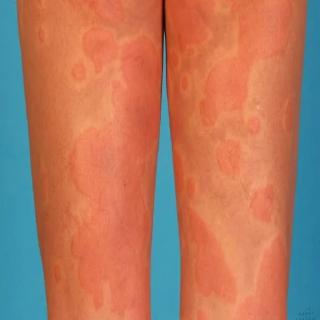urticaria: (181, 30, 286, 301), (65, 12, 148, 306)
